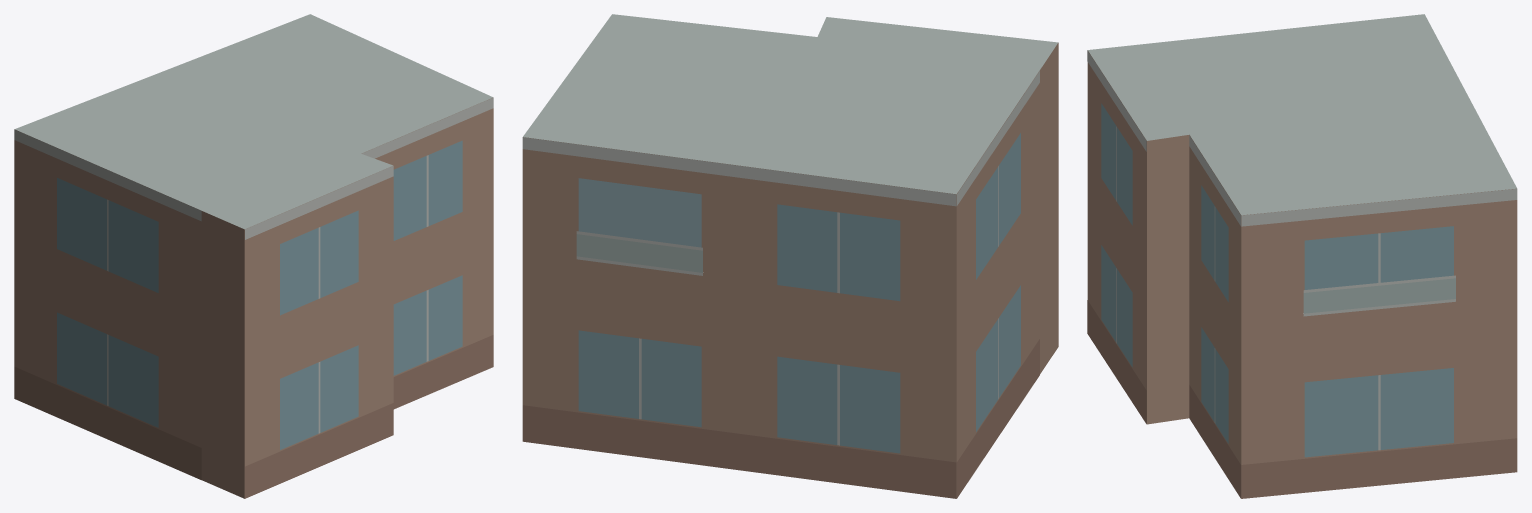
File: survey-upis-32567385.glb
The picture shows the model from 3 angles, left to right: view 1: azimuth 30°, elevation 25°; view 2: azimuth 150°, elevation 25°; view 3: azimuth 270°, elevation 25°; orthographic projection. The views are drawn at different scales.
Parts seen in each view (by area): view 1: survey-upis-32567385.tmp; view 2: survey-upis-32567385.tmp; view 3: survey-upis-32567385.tmp.
Part boxes in pixels (left/top/right/bottom): survey-upis-32567385.tmp: left=14, top=14, right=493, bottom=498; survey-upis-32567385.tmp: left=522, top=14, right=1058, bottom=498; survey-upis-32567385.tmp: left=1087, top=14, right=1517, bottom=498.
Bounding box in the file's own units: 9.3 × 6.1 × 8.39.
